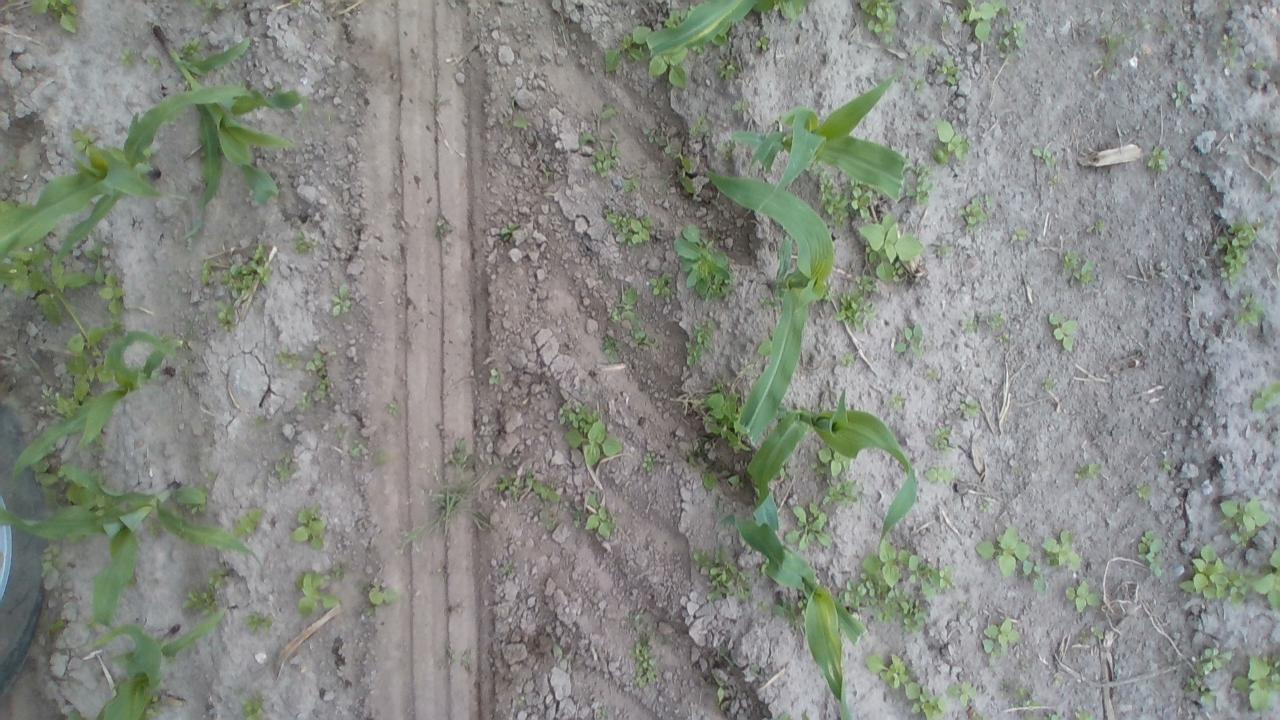Maize: (1, 81, 256, 268), (1, 466, 262, 625), (697, 168, 835, 442), (151, 24, 307, 242), (719, 514, 869, 719), (750, 384, 920, 550), (10, 330, 176, 482), (728, 74, 904, 209), (74, 606, 227, 720), (646, 0, 766, 61)
Weeds: (837, 539, 959, 633), (399, 436, 487, 548), (0, 244, 96, 328), (198, 242, 276, 332), (864, 651, 944, 720), (674, 220, 736, 305), (556, 401, 626, 474), (856, 213, 928, 283), (699, 378, 752, 456), (1228, 650, 1280, 712), (694, 543, 748, 602), (1184, 540, 1232, 606), (976, 522, 1025, 580), (66, 326, 106, 397), (684, 448, 741, 494), (294, 568, 346, 618), (1222, 494, 1272, 546), (626, 610, 660, 686), (782, 500, 830, 551), (600, 22, 648, 72), (1216, 222, 1260, 276), (492, 468, 556, 505), (571, 492, 617, 542), (600, 207, 656, 243), (1041, 528, 1085, 571), (859, 0, 900, 46), (32, 0, 88, 33), (1136, 530, 1170, 584), (650, 48, 691, 92), (684, 316, 718, 369), (292, 503, 331, 549), (817, 167, 851, 219), (1252, 548, 1280, 610), (960, 1, 1001, 42), (981, 616, 1023, 656), (96, 270, 130, 319), (936, 120, 972, 164), (1095, 28, 1124, 80), (364, 578, 399, 616), (1022, 557, 1053, 598), (1068, 579, 1106, 612), (812, 446, 852, 477), (1062, 246, 1093, 286), (40, 544, 65, 593), (608, 280, 640, 317), (821, 478, 863, 506), (180, 583, 217, 614), (673, 152, 700, 194), (580, 130, 619, 159), (245, 608, 280, 640), (762, 592, 804, 618), (1048, 314, 1076, 352), (756, 0, 808, 20), (839, 292, 870, 325), (909, 162, 935, 201), (1234, 295, 1266, 326), (324, 283, 354, 316), (1252, 379, 1280, 411), (891, 325, 924, 352), (1229, 569, 1255, 603), (948, 680, 979, 708), (1000, 20, 1024, 56), (36, 460, 60, 494), (957, 198, 985, 227), (298, 381, 326, 409), (238, 507, 262, 538), (71, 126, 96, 154), (852, 187, 876, 216), (640, 126, 674, 146), (648, 276, 678, 298), (190, 0, 224, 19), (924, 466, 958, 485), (1218, 34, 1240, 63), (928, 422, 952, 448), (1146, 146, 1170, 172), (934, 240, 959, 264), (46, 619, 70, 643), (935, 62, 960, 85), (620, 168, 642, 194), (1204, 648, 1231, 669), (713, 677, 731, 708), (52, 392, 74, 417), (274, 458, 295, 483), (1080, 628, 1106, 648), (244, 695, 266, 718), (304, 350, 325, 374), (208, 564, 228, 588), (958, 396, 982, 416), (179, 34, 200, 56), (886, 396, 910, 415), (1074, 705, 1104, 720), (689, 109, 707, 133), (627, 324, 648, 344), (718, 57, 738, 78), (602, 335, 618, 361), (1171, 80, 1186, 107), (350, 440, 370, 460), (144, 54, 164, 74), (434, 219, 452, 241), (1076, 464, 1100, 480), (1136, 481, 1156, 500), (838, 350, 858, 368), (640, 454, 658, 474), (116, 46, 132, 68), (924, 366, 946, 382), (594, 156, 610, 178), (663, 8, 686, 23), (960, 320, 981, 336), (1030, 146, 1054, 160), (292, 233, 310, 250), (374, 447, 389, 467), (253, 414, 271, 430), (146, 523, 164, 539), (498, 222, 514, 240), (1041, 377, 1060, 392), (754, 33, 773, 48), (277, 348, 292, 366), (1049, 705, 1067, 720), (1185, 675, 1203, 690), (908, 76, 924, 92), (757, 340, 772, 356), (1158, 450, 1170, 470), (552, 643, 565, 661), (513, 115, 528, 130), (1095, 217, 1107, 235), (731, 101, 752, 111), (388, 401, 404, 414), (914, 42, 931, 54), (1016, 228, 1028, 244), (488, 367, 498, 386), (1046, 171, 1060, 184), (989, 314, 1004, 325), (332, 562, 342, 576), (600, 109, 612, 116)
